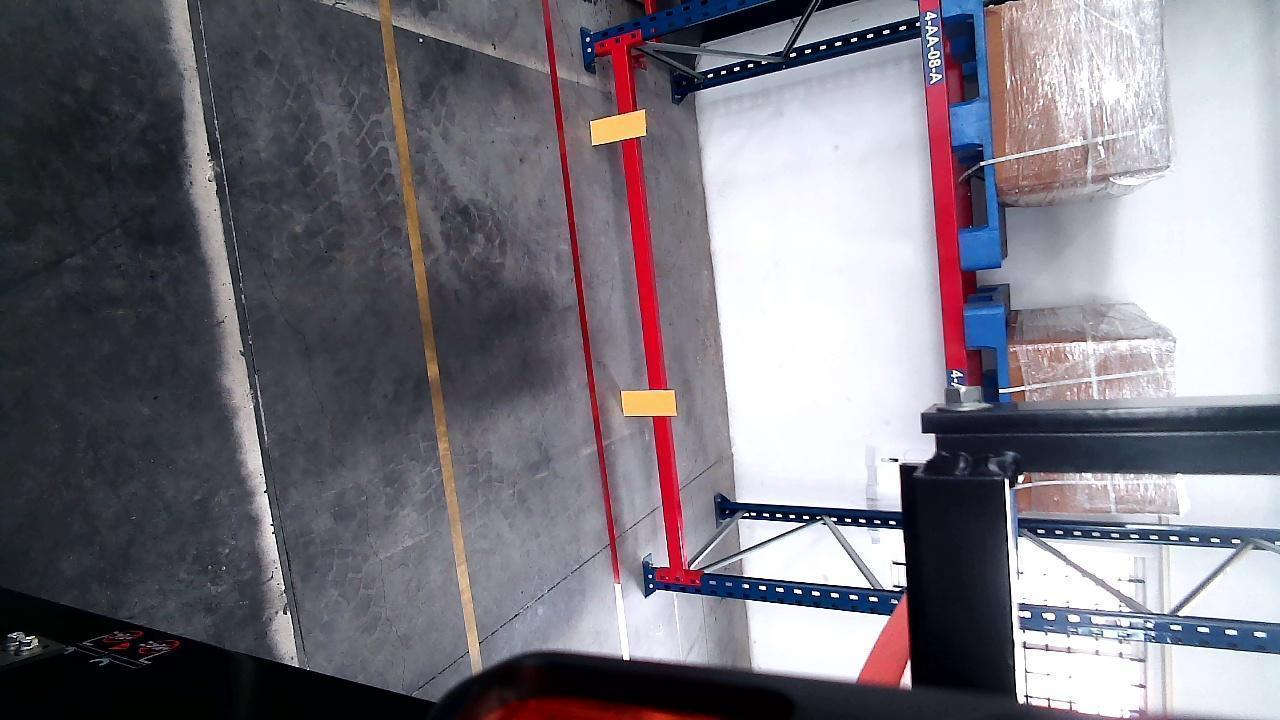red_line: (544, 0, 633, 654)
